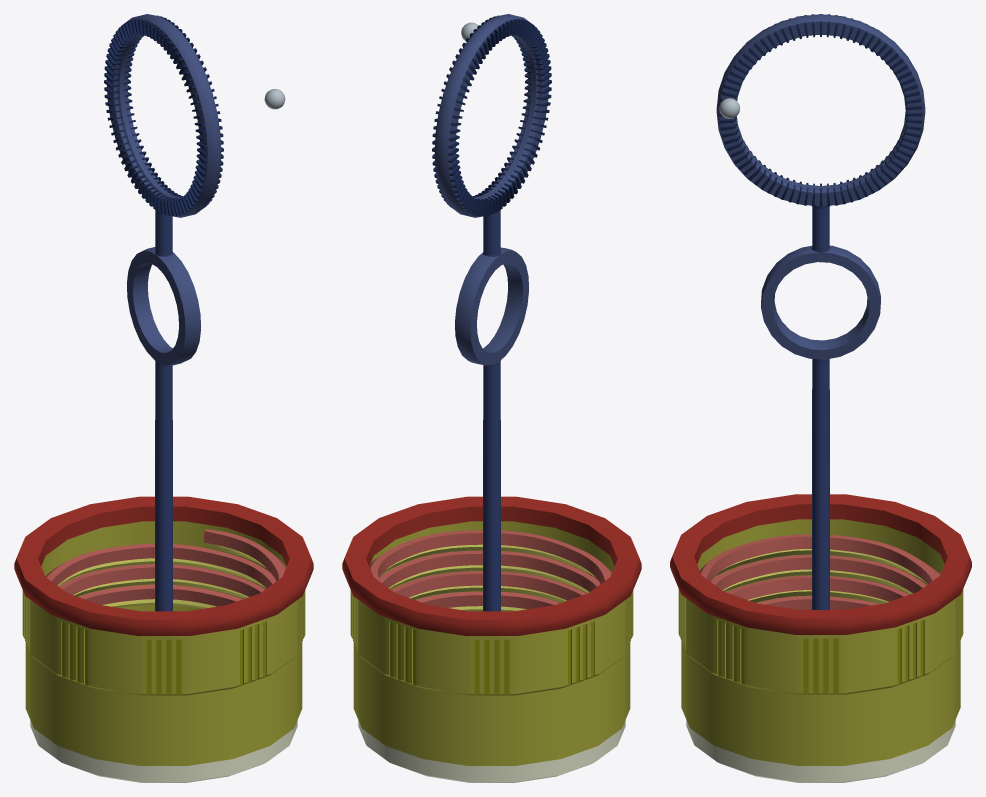
Rendered from Bubble Loop FBX.fbx.
The picture shows the model from 3 angles, left to right: view 1: azimuth 30°, elevation 25°; view 2: azimuth 150°, elevation 25°; view 3: azimuth 270°, elevation 25°; orthographic projection.
Visible parts, largest first — view 1: Cylinder.001, Cylinder.005, SpiroFit.001, Cylinder.007, Cylinder.010, Cylinder.008, Cylinder.006, Cylinder.012, Cylinder.013, Cylinder.009; view 2: Cylinder.001, Cylinder.005, SpiroFit.001, Cylinder.007, Cylinder.010, Cylinder.008, Cylinder.006, Cylinder.012, Cylinder.013, Cylinder.009; view 3: Cylinder.001, Cylinder.005, SpiroFit.001, Cylinder.007, Cylinder.008, Cylinder.010, Cylinder.006, Cylinder.012, Cylinder.013, Cylinder.009.
Part boxes in pixels (x1,y1,x2,y2): Cylinder.001: [22, 521, 305, 765]; Cylinder.005: [14, 496, 313, 635]; SpiroFit.001: [45, 529, 286, 606]; Cylinder.007: [106, 14, 221, 217]; Cylinder.010: [104, 15, 223, 216]; Cylinder.008: [127, 247, 200, 365]; Cylinder.006: [155, 360, 172, 611]; Cylinder.012: [30, 720, 297, 782]; Cylinder.013: [58, 539, 266, 608]; Cylinder.009: [155, 209, 172, 256]; Cylinder.001: [350, 521, 633, 765]; Cylinder.005: [342, 496, 641, 635]; SpiroFit.001: [369, 530, 611, 609]; Cylinder.007: [434, 14, 549, 217]; Cylinder.010: [432, 15, 551, 216]; Cylinder.008: [455, 247, 528, 365]; Cylinder.006: [483, 360, 500, 611]; Cylinder.012: [358, 720, 625, 782]; Cylinder.013: [382, 544, 596, 611]; Cylinder.009: [483, 209, 500, 256]; Cylinder.001: [678, 519, 963, 765]; Cylinder.005: [670, 494, 971, 634]; SpiroFit.001: [700, 534, 940, 609]; Cylinder.007: [716, 14, 925, 205]; Cylinder.008: [761, 245, 880, 359]; Cylinder.010: [719, 14, 922, 206]; Cylinder.006: [812, 359, 829, 609]; Cylinder.012: [686, 720, 955, 782]; Cylinder.013: [715, 549, 927, 603]; Cylinder.009: [811, 205, 829, 252].
Size of the model in its own units: 230 by 608 by 233.
